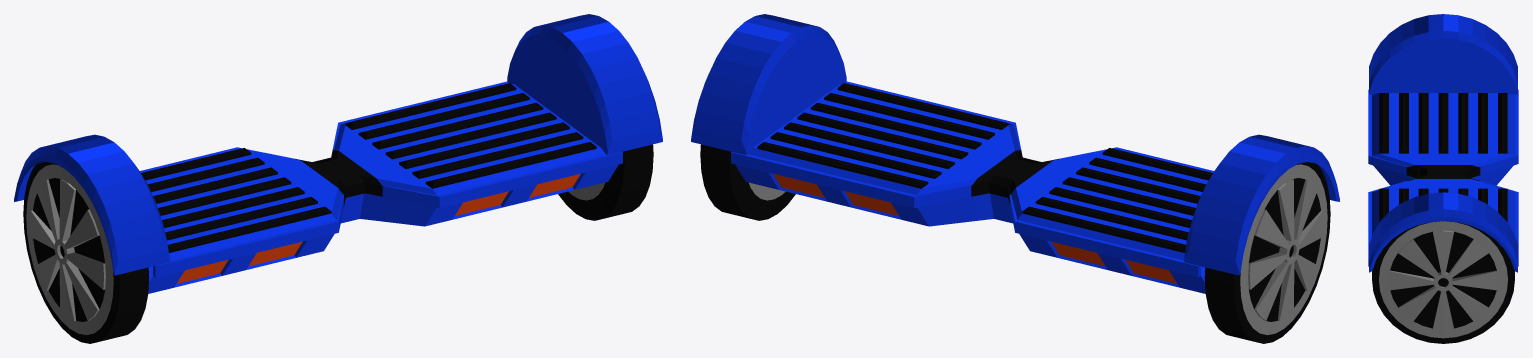
File: overboard.gltf
The picture shows the model from 3 angles, left to right: view 1: azimuth 30°, elevation 25°; view 2: azimuth 150°, elevation 25°; view 3: azimuth 270°, elevation 25°; orthographic projection. The views are drawn at different scales.
Size of the model in its own units: 0.108 by 0.0343 by 0.0342.
